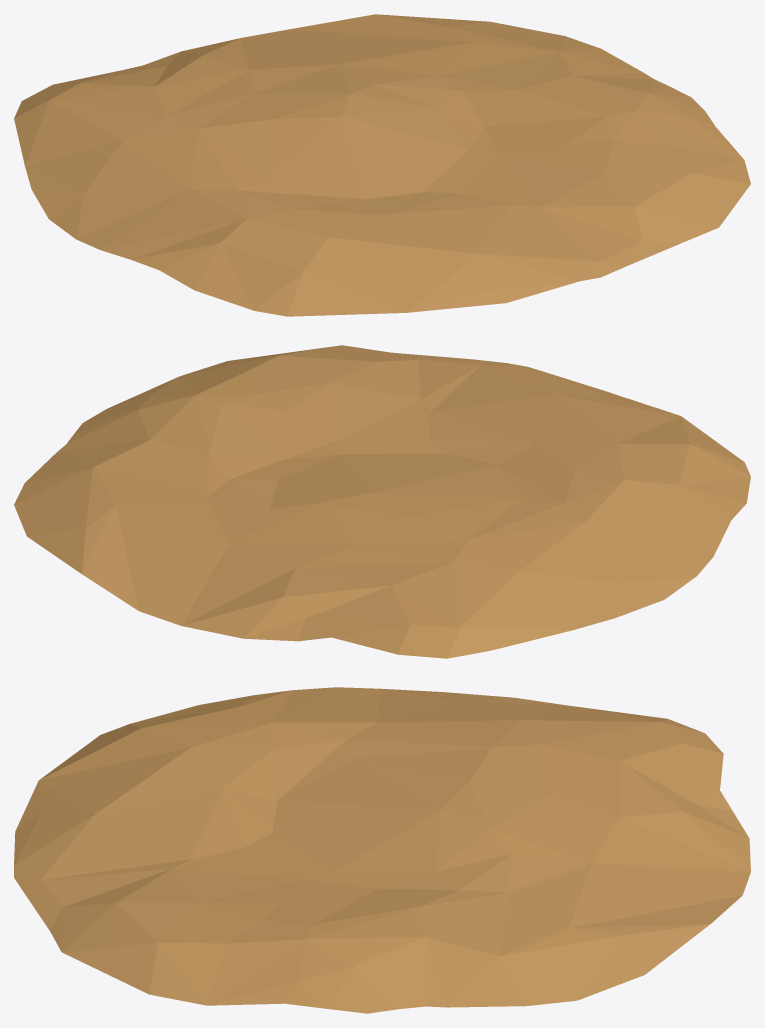
File: EA_M_Env_Sand_01b.fbx
The picture shows the model from 3 angles, top to bottom: view 1: azimuth 30°, elevation 25°; view 2: azimuth 150°, elevation 25°; view 3: azimuth 270°, elevation 25°; orthographic projection. The views are drawn at different scales.
Parts seen in each view (by area): view 1: EA_M_Env_Sand_01b_LOD0; view 2: EA_M_Env_Sand_01b_LOD0; view 3: EA_M_Env_Sand_01b_LOD0.
Boxes of the visible parts, bbox=[...] form: EA_M_Env_Sand_01b_LOD0: bbox=[14, 14, 750, 316]; EA_M_Env_Sand_01b_LOD0: bbox=[14, 345, 750, 658]; EA_M_Env_Sand_01b_LOD0: bbox=[14, 687, 750, 1013].
Size of what is drawn, in the model's own units: 7.19 by 0.4229 by 6.95.
